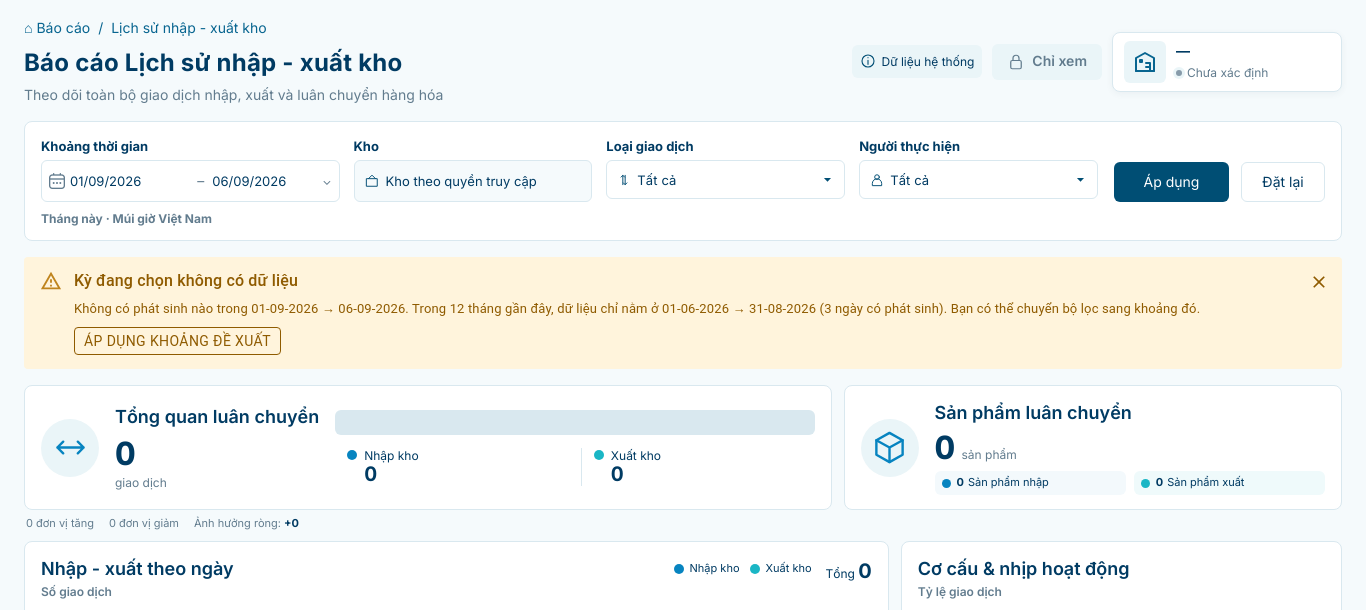
Test: RPT-IO-01 · gợi ý bộ lọc kỳ › bấm 'Áp dụng' chuyển kỳ đang xem sang khoảng được đề xuất
The width and height of the screenshot is (1366, 610).
Click the button with test id "report-range-advice-apply" at (178, 341), box [74,327,281,355]
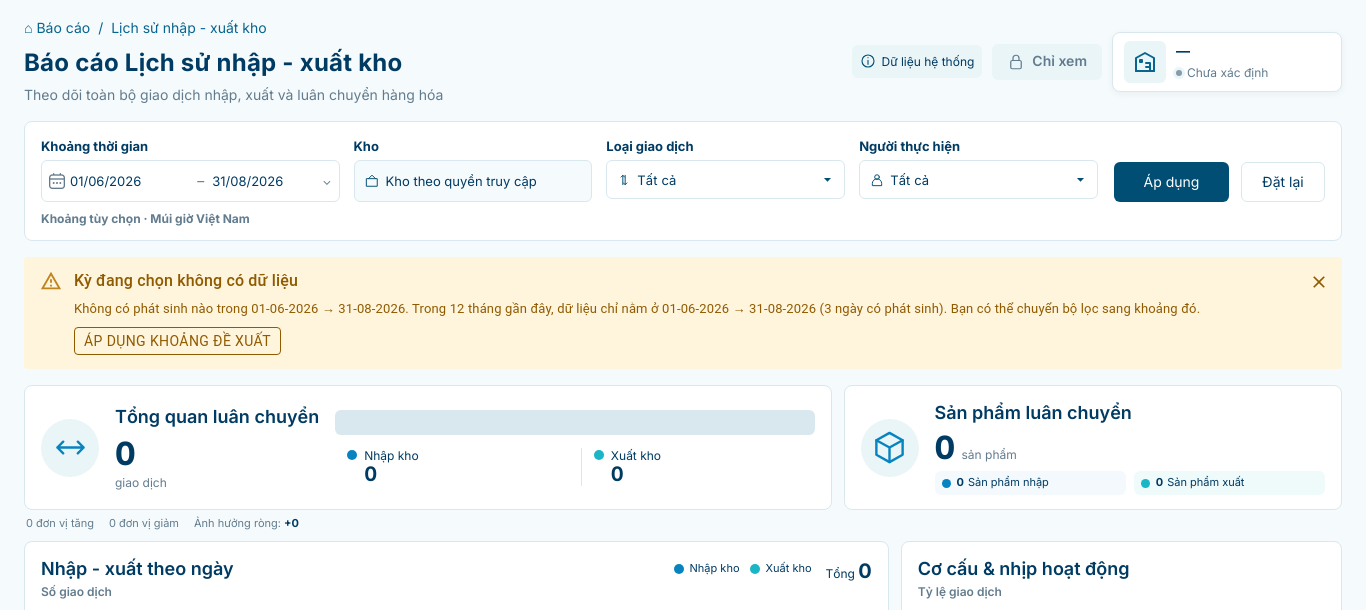
Expected: the button named "Từ ngày" reads "01/06/2026", [42,161,190,201]
Expected: the button named "Đến ngày" reads "31/08/2026", [190,161,339,201]
